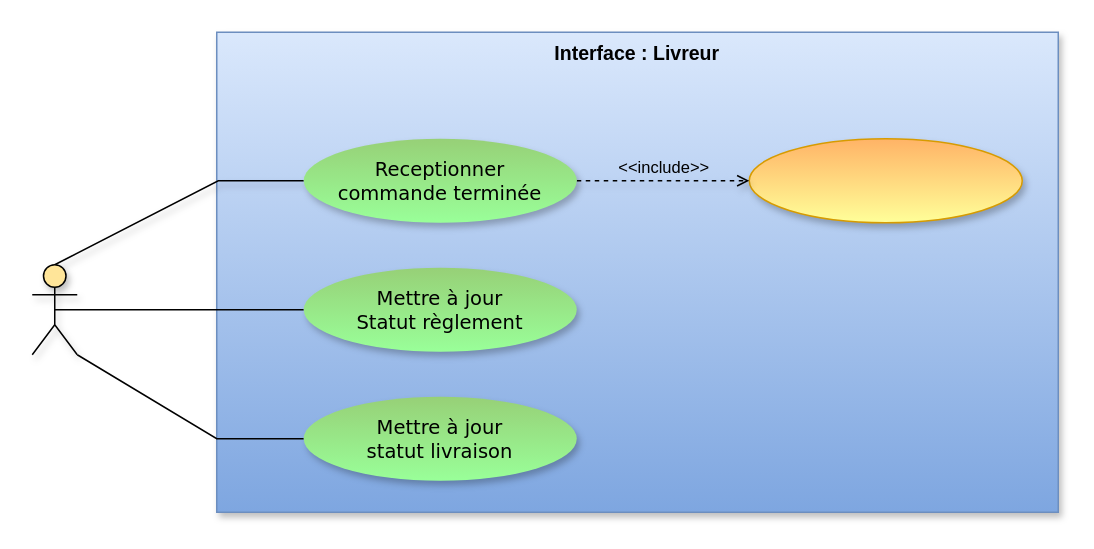
This 1094x549 diagram has some shape labels left out. Each missing label, with the centre of its shape:
"Afficher itinéraire" goes at point 886,182.
"Livreur" goes at point 55,311.
